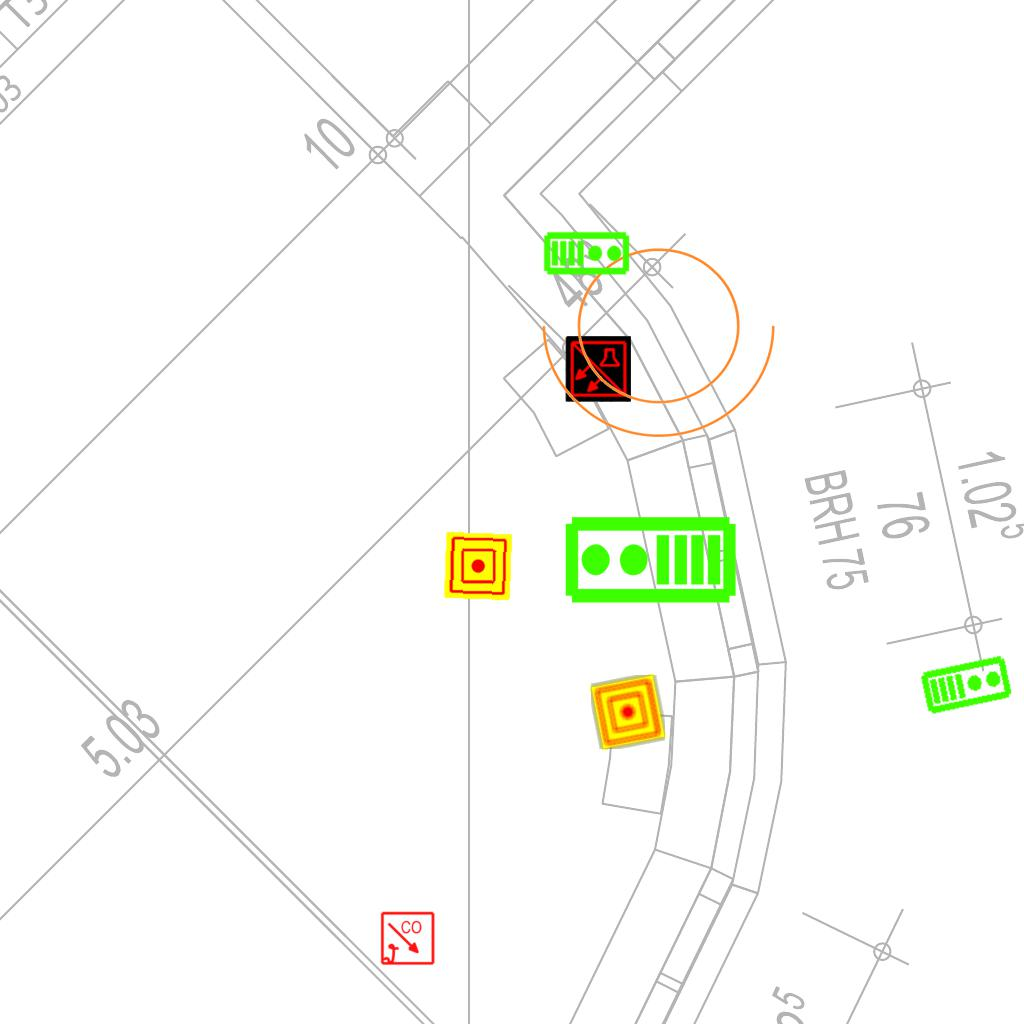Gegensprechanlage_mit_Video: (562, 514, 738, 609), (918, 651, 1015, 717), (543, 229, 631, 276)
NAM-Nichtautomatischer_Melder: (589, 673, 667, 751), (443, 531, 513, 601)
OKW_Multisensormelder_(Kombination_optischer_Rauch-Kahlenmonoxid_Waerme-Melder): (565, 336, 631, 402)
ROA_Rauchmelder_optisch_mit_Signalgeber_(Sockelsirene): (380, 911, 436, 967)
Scheinwerfer_fuer_Alarmbeleuchtung: (533, 223, 797, 448)
